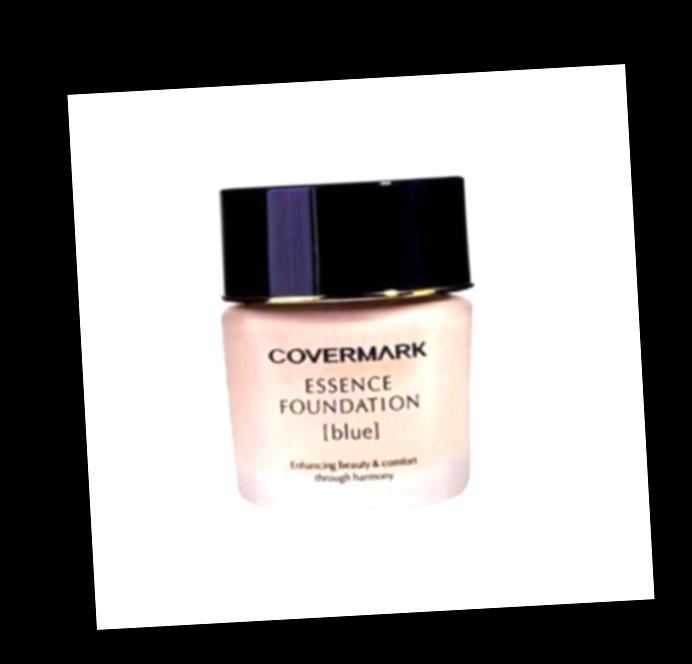cosmetic: (212, 175, 486, 514)
